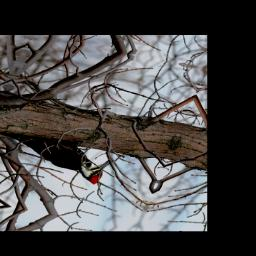Woodpecker: (0, 125, 118, 186)
